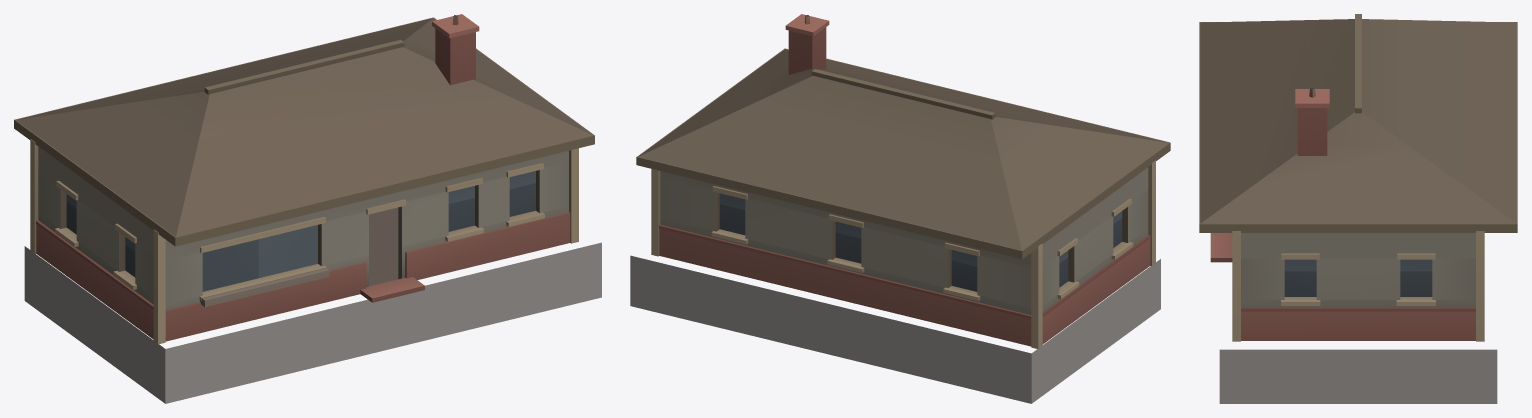
File: ranch.lod1.glb
The picture shows the model from 3 angles, left to right: view 1: azimuth 30°, elevation 25°; view 2: azimuth 150°, elevation 25°; view 3: azimuth 270°, elevation 25°; orthographic projection. The views are drawn at different scales.
Size of the model in its own units: 12.49 by 7.4 by 7.98.
